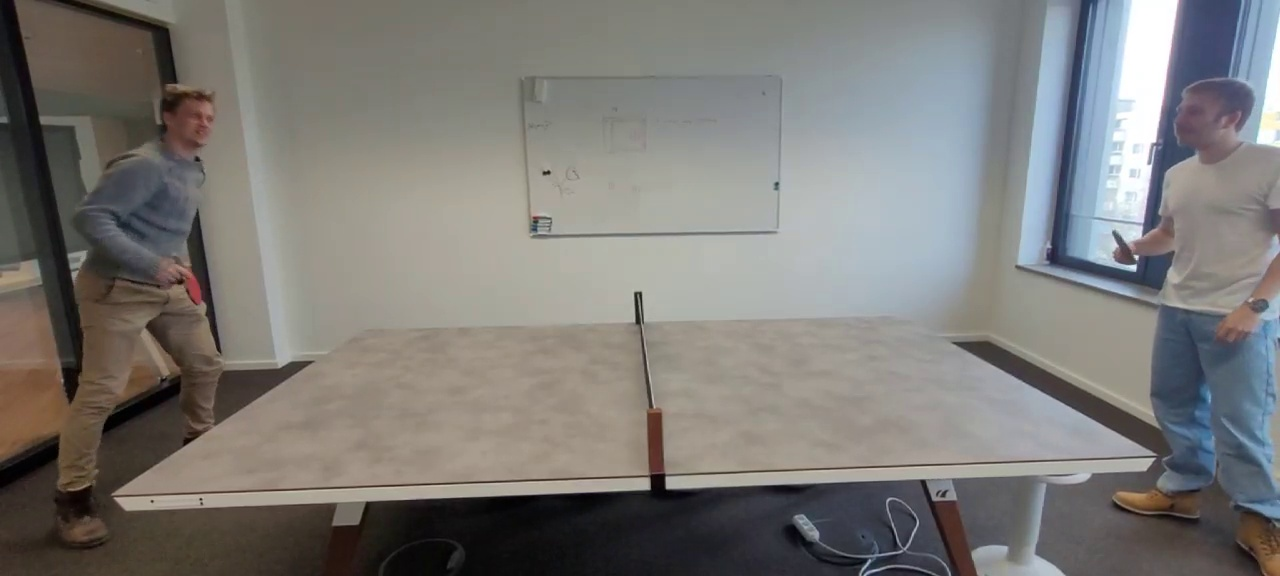1: (1112, 229, 1133, 260), (185, 270, 201, 305)
ttplatte: (113, 315, 1156, 494)
